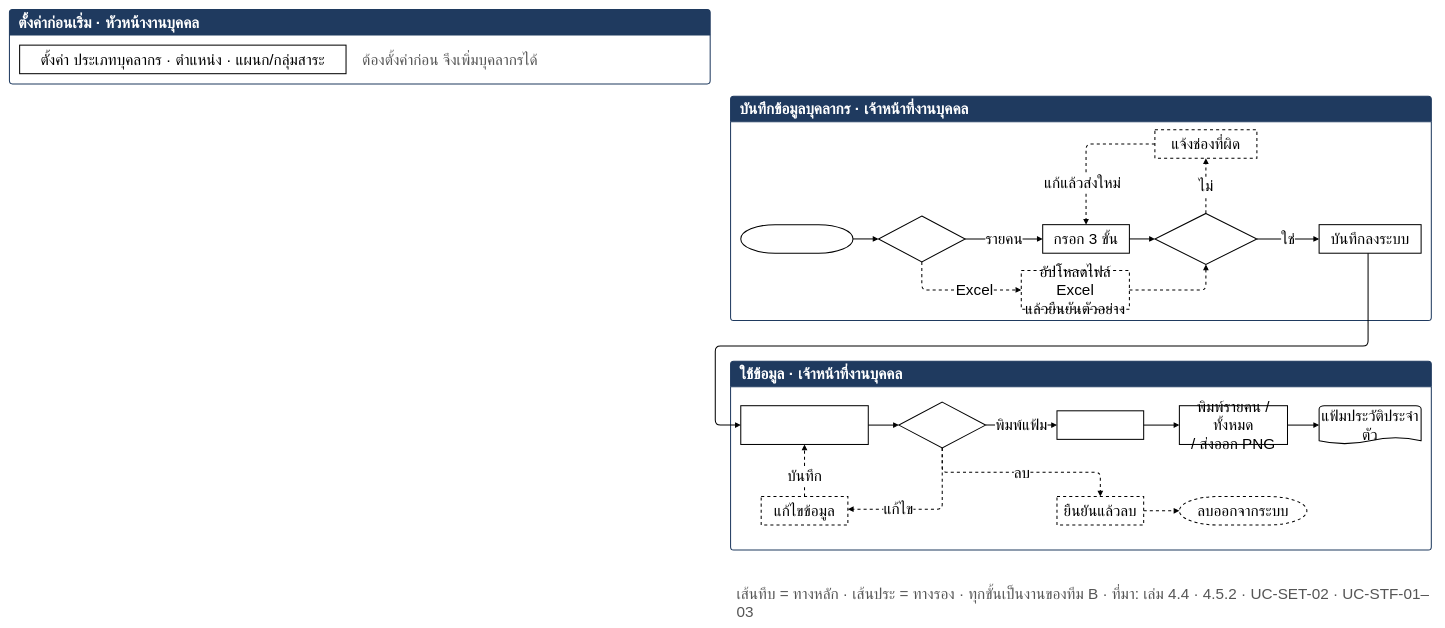
Some shapes in this 1445 by 628 pixel diagram are drawn without their labels. The centre of each missing label's shape, as x and y in pixels:
"ข้อมูลครบ ไม่ซ้ำ?" goes at point (1205, 239).
"ดูตัวอย่างแฟ้ม A4" goes at point (1100, 425).
"มีบุคลากรใหม่" goes at point (796, 238).
"รายชื่อบุคลากร (ครบถ้วน / รอตรวจสอบ)" goes at point (804, 425).
"เพิ่มแบบไหน?" goes at point (921, 238).
"เลือกทำอะไร?" goes at point (942, 424).
